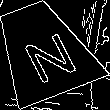N_NW: (10, 19, 76, 81)
